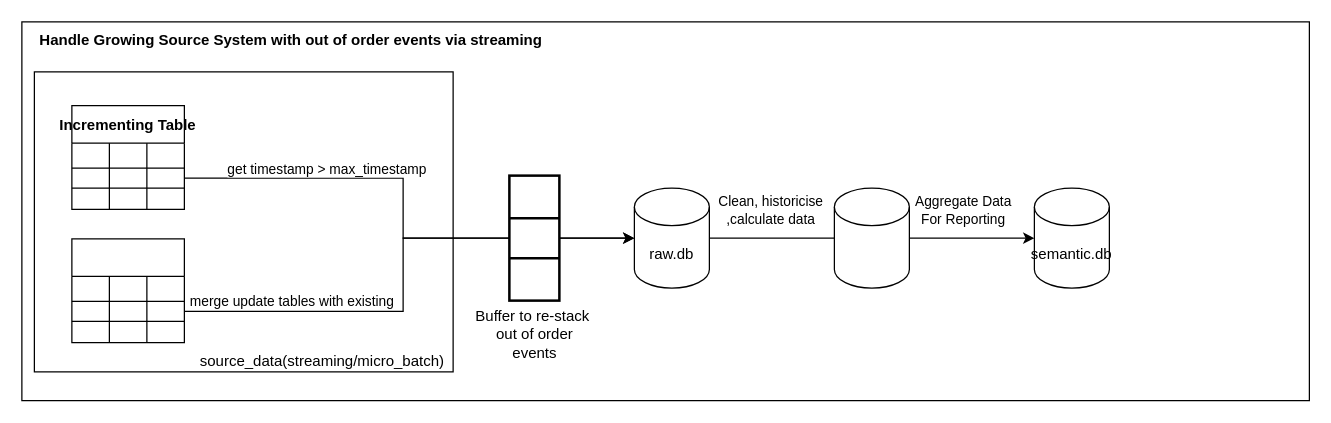
The diagram is 1331 pixels wide and 423 high, and some of its shapes have lost their labels. Each missing label, with the centre of its shape:
conformed.db: (x=871, y=237)
Slowly Changing Tables: (x=127, y=290)
